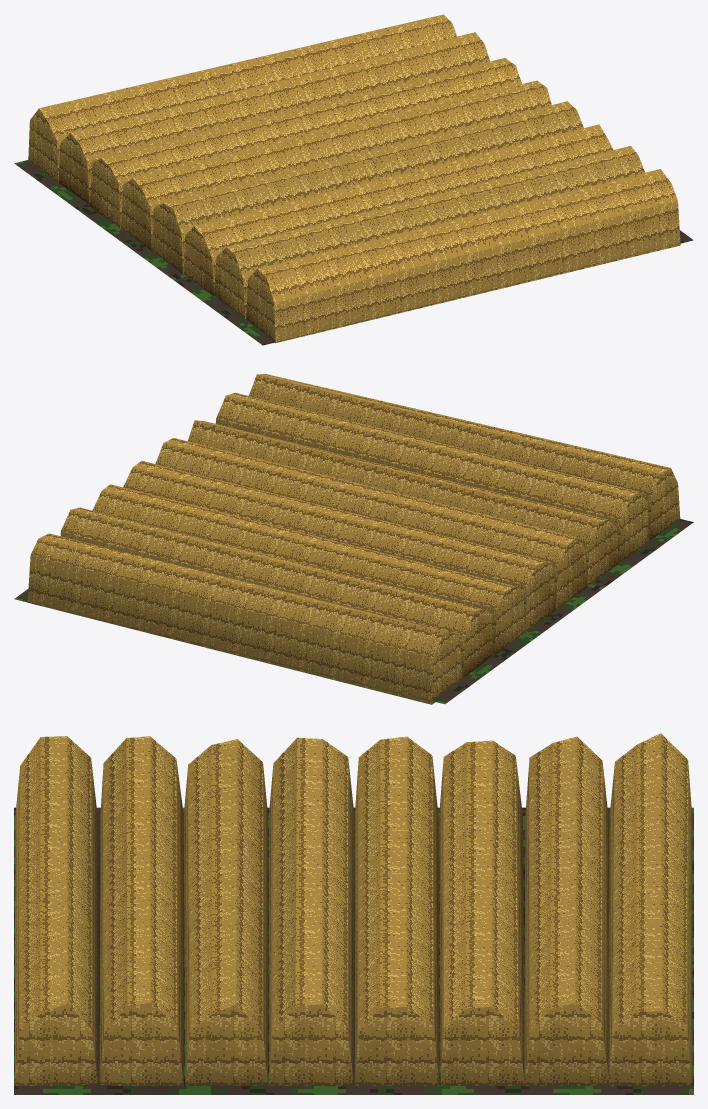
File: mnat.field.glb
3 renders of one model, top to bottom at view 1: azimuth 30°, elevation 25°; view 2: azimuth 150°, elevation 25°; view 3: azimuth 270°, elevation 25°, orthographic. The views are drawn at different scales.
Visible parts, largest first — view 1: kit_crop, kit_shell_soil; view 2: kit_crop, kit_shell_soil; view 3: kit_crop, kit_shell_soil.
Boxes of the visible parts, x1,y1,x2,y2 form: kit_crop: (28, 14, 680, 342); kit_shell_soil: (14, 160, 693, 345); kit_crop: (27, 374, 680, 704); kit_shell_soil: (14, 519, 693, 704); kit_crop: (14, 733, 692, 1086); kit_shell_soil: (14, 807, 693, 1094).
Bounding box in the file's own units: 8 × 1.16 × 8.
Materials: 2 (2 with a texture image).
